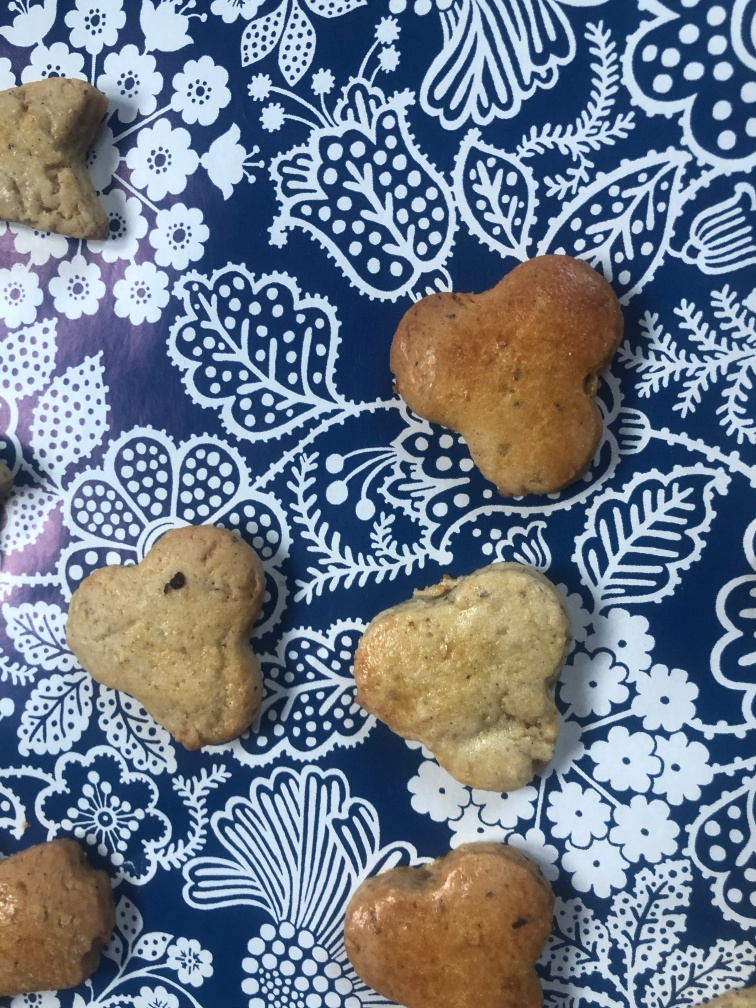flake: (387, 254, 623, 496), (354, 563, 569, 790), (66, 524, 266, 745), (342, 843, 557, 1008)
